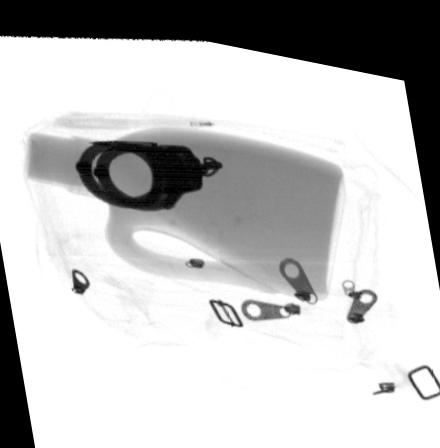Bullet: (93, 134, 163, 145)
HandCuffs: (75, 136, 223, 205)
